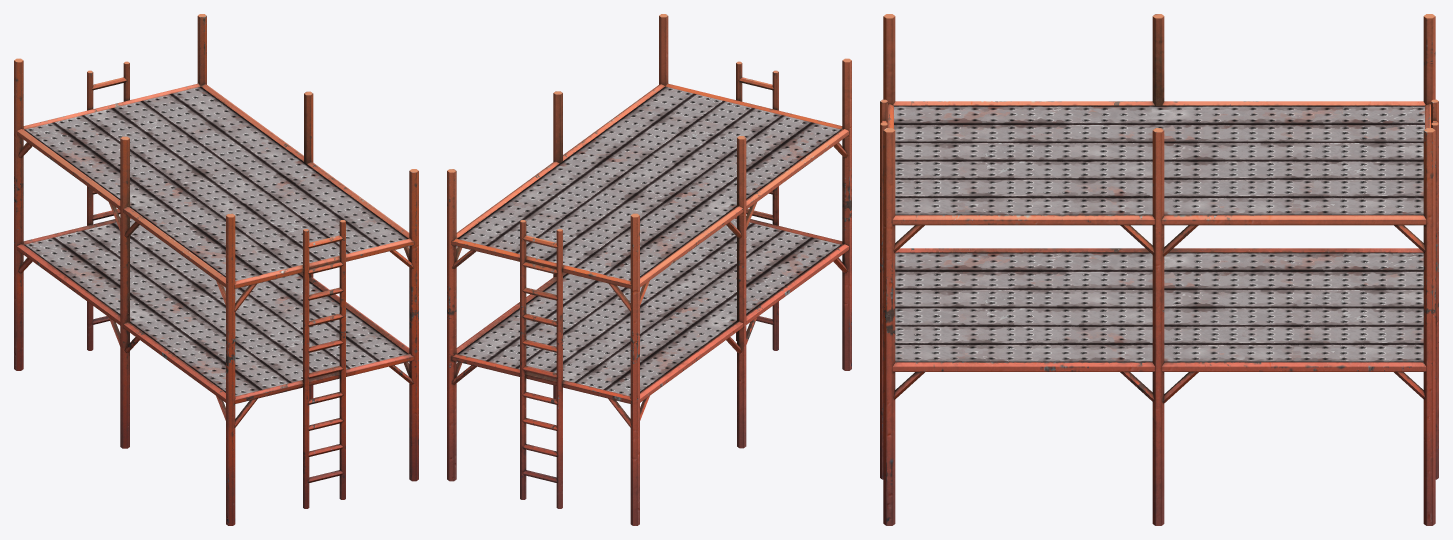
Rendered from scaffold_2_pieces.fbx.
The picture shows the model from 3 angles, left to right: view 1: azimuth 30°, elevation 25°; view 2: azimuth 150°, elevation 25°; view 3: azimuth 270°, elevation 25°; orthographic projection. The views are drawn at different scales.
Parts seen in each view (by area): view 1: Cube_015_002_cell_039_cell.029, Cube_015_002_cell_039_cell.028, Cube_015_002_cell_039_cell.027, Cube_015_002_cell_039_cell.017, Cube_015_002_cell_039_cell.031, Cube_015_002_cell_039_cell.021, Cube_015_002_cell_039_cell.020, Cube_015_002_cell_039_cell.026, Cube_015_002_cell_039_cell.022, Cube_015_002_cell_039_cell.025, Cube_015_002_cell_039_cell.024, Cube_015_002_cell_039_cell.018 (+36 smaller); view 2: Cube_015_002_cell_039_cell.029, Cube_015_002_cell_039_cell.027, Cube_015_002_cell_039_cell.028, Cube_015_002_cell_039_cell.025, Cube_015_002_cell_039_cell.017, Cube_015_002_cell_039_cell.031, Cube_015_002_cell_039_cell.022, Cube_015_002_cell_039_cell.020, Cube_015_002_cell_039_cell.026, Cube_015_002_cell_039_cell.021, Cube_015_002_cell_039_cell.018, Cube_015_002_cell_039_cell.024 (+35 smaller); view 3: Cube_015_002_cell_039_cell.027, Cube_015_002_cell_039_cell.029, Cube_015_002_cell_039_cell.025, Cube_015_002_cell_039_cell.028, Cube_015_002_cell_039_cell.017, Cube_015_002_cell_039_cell.021, Cube_015_002_cell_039_cell.031, Cube_015_002_cell_039_cell.026, Cube_015_002_cell_039_cell.022, Cube_015_002_cell_039_cell.020, Cube_015_002_cell_039_cell.024, Cube_015_002_cell_039_cell.023 (+33 smaller).
Boxes of the visible parts, left/top/right/bottom form: Cube_015_002_cell_039_cell.029: left=54, top=136, right=303, bottom=194; Cube_015_002_cell_039_cell.028: left=112, top=173, right=291, bottom=228; Cube_015_002_cell_039_cell.027: left=45, top=250, right=262, bottom=301; Cube_015_002_cell_039_cell.017: left=24, top=96, right=223, bottom=151; Cube_015_002_cell_039_cell.031: left=97, top=298, right=250, bottom=360; Cube_015_002_cell_039_cell.021: left=195, top=333, right=349, bottom=396; Cube_015_002_cell_039_cell.020: left=287, top=163, right=408, bottom=245; Cube_015_002_cell_039_cell.026: left=156, top=226, right=311, bottom=280; Cube_015_002_cell_039_cell.022: left=235, top=207, right=381, bottom=262; Cube_015_002_cell_039_cell.025: left=24, top=218, right=174, bottom=260; Cube_015_002_cell_039_cell.024: left=182, top=319, right=327, bottom=369; Cube_015_002_cell_039_cell.018: left=167, top=113, right=305, bottom=163; Cube_015_002_cell_039_cell.029: left=564, top=162, right=721, bottom=259; Cube_015_002_cell_039_cell.027: left=533, top=288, right=706, bottom=381; Cube_015_002_cell_039_cell.028: left=591, top=145, right=765, bottom=217; Cube_015_002_cell_039_cell.025: left=457, top=315, right=654, bottom=396; Cube_015_002_cell_039_cell.017: left=498, top=216, right=663, bottom=280; Cube_015_002_cell_039_cell.031: left=664, top=276, right=791, bottom=343; Cube_015_002_cell_039_cell.022: left=659, top=93, right=761, bottom=157; Cube_015_002_cell_039_cell.020: left=563, top=86, right=691, bottom=164; Cube_015_002_cell_039_cell.026: left=735, top=110, right=841, bottom=185; Cube_015_002_cell_039_cell.021: left=692, top=218, right=841, bottom=272; Cube_015_002_cell_039_cell.018: left=494, top=162, right=575, bottom=226; Cube_015_002_cell_039_cell.024: left=665, top=250, right=804, bottom=281; Cube_015_002_cell_039_cell.027: left=1164, top=252, right=1369, bottom=352; Cube_015_002_cell_039_cell.029: left=1144, top=105, right=1347, bottom=212; Cube_015_002_cell_039_cell.025: left=1286, top=252, right=1423, bottom=362; Cube_015_002_cell_039_cell.028: left=1036, top=105, right=1199, bottom=200; Cube_015_002_cell_039_cell.017: left=1316, top=105, right=1424, bottom=207; Cube_015_002_cell_039_cell.021: left=895, top=252, right=1005, bottom=335; Cube_015_002_cell_039_cell.031: left=1021, top=252, right=1237, bottom=310; Cube_015_002_cell_039_cell.026: left=894, top=105, right=1088, bottom=155; Cube_015_002_cell_039_cell.022: left=895, top=137, right=1050, bottom=199; Cube_015_002_cell_039_cell.020: left=895, top=181, right=1152, bottom=215; Cube_015_002_cell_039_cell.024: left=989, top=252, right=1084, bottom=345; Cube_015_002_cell_039_cell.023: left=1031, top=296, right=1167, bottom=362.
Size of the model in its own units: 1038 by 1608 by 2069.
